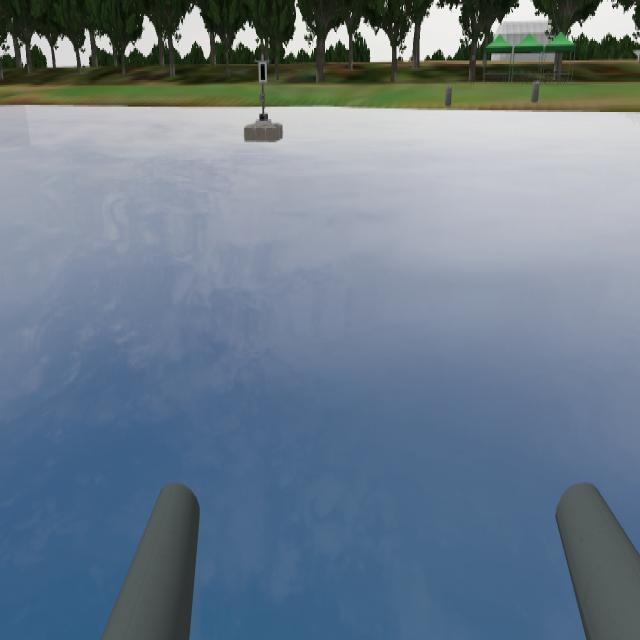black_pole: (255, 55, 273, 91)
